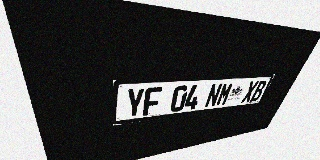0: (169, 85, 189, 112)
4: (183, 84, 203, 111)
B: (250, 80, 268, 102)
F: (143, 87, 162, 116)
M: (215, 82, 234, 106)
N: (204, 83, 223, 108)
X: (241, 81, 259, 103)
Y: (125, 88, 145, 118)
